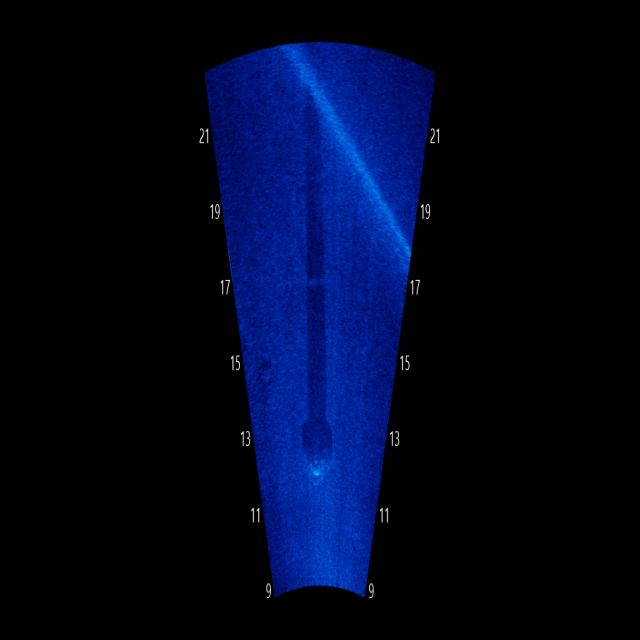circle: (256, 357, 279, 401)
